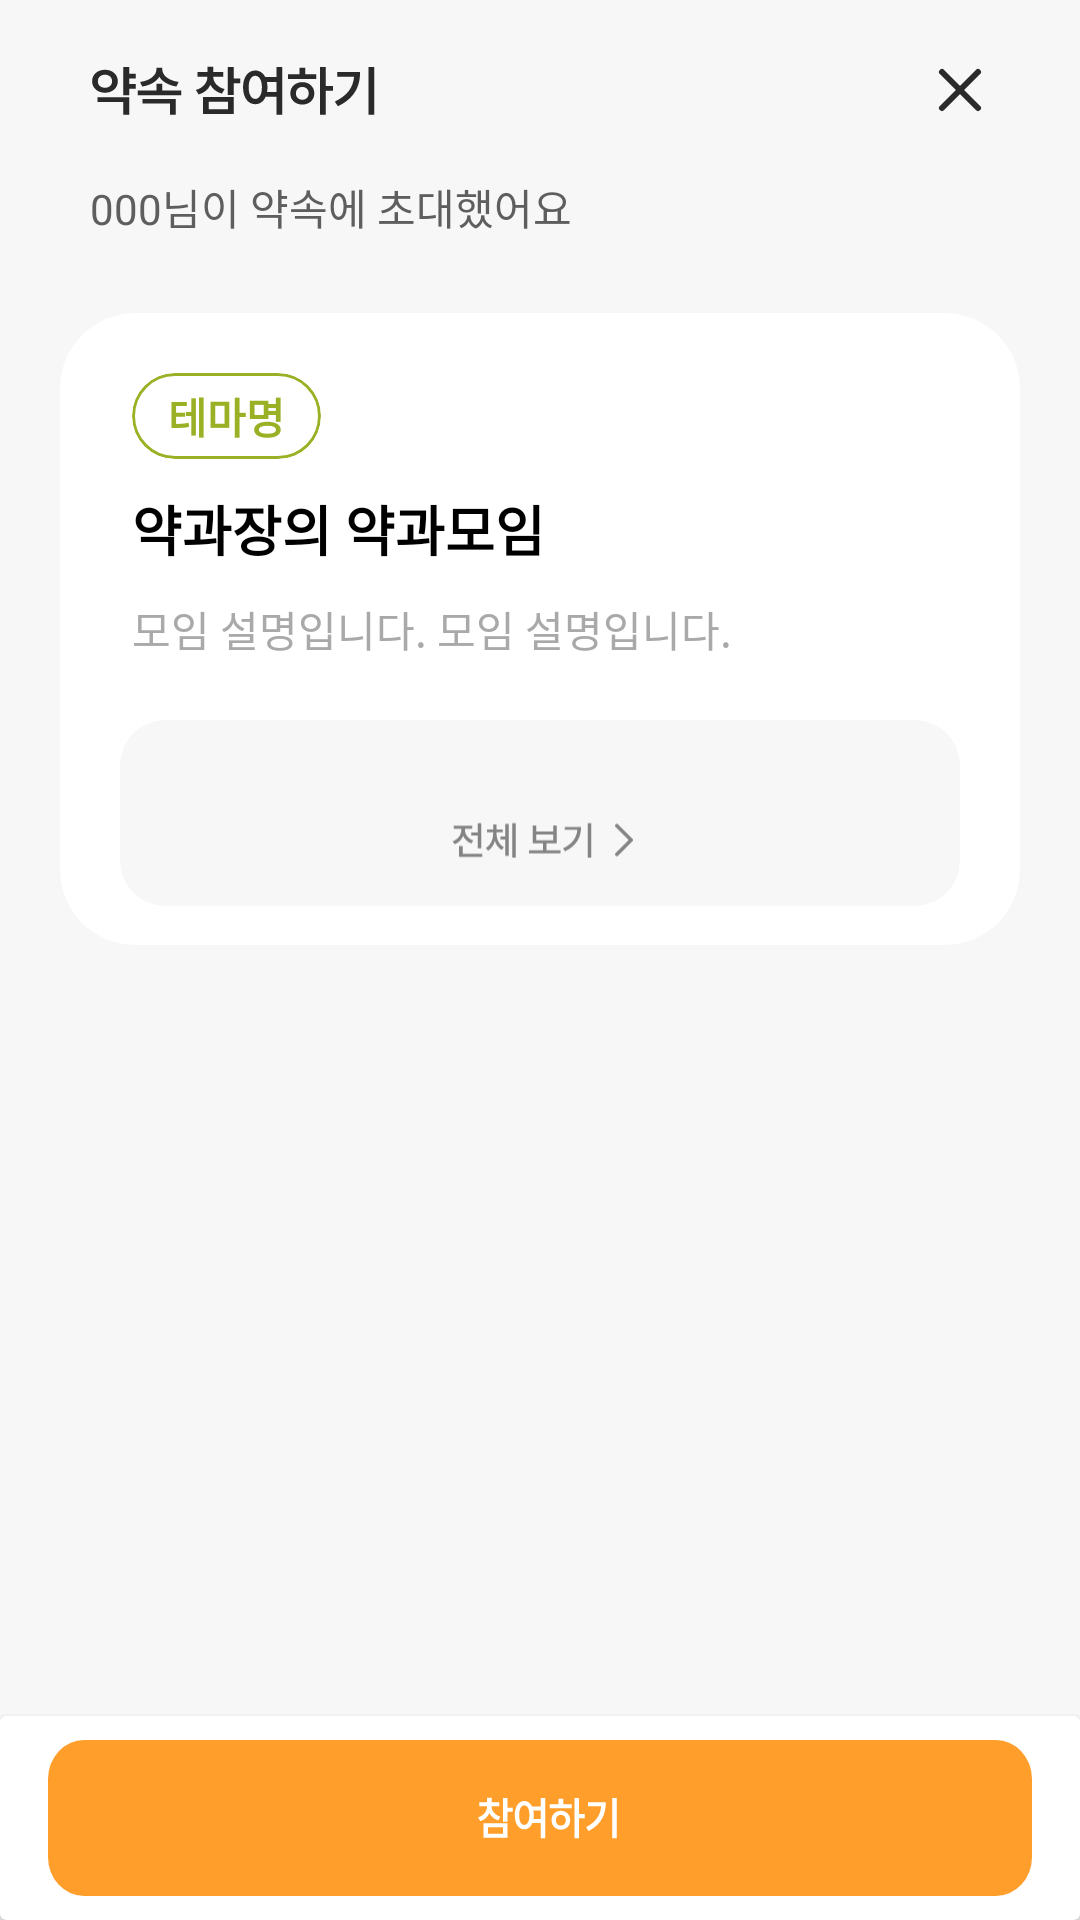

Where to tap for icons on this 1080px×1920px app screen, as (x=x, y=y):
close: (x=960, y=89)
